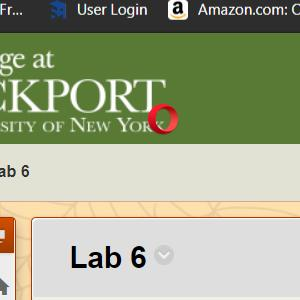opera: (148, 105, 179, 135)
